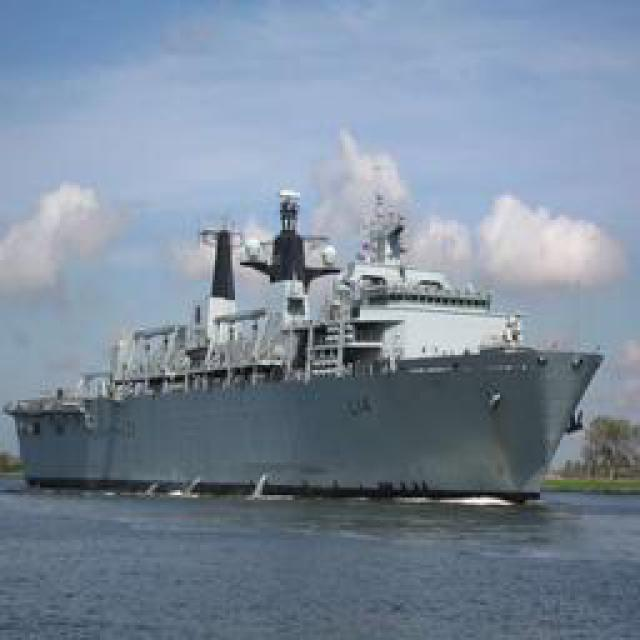Ship: (19, 176, 612, 506)
